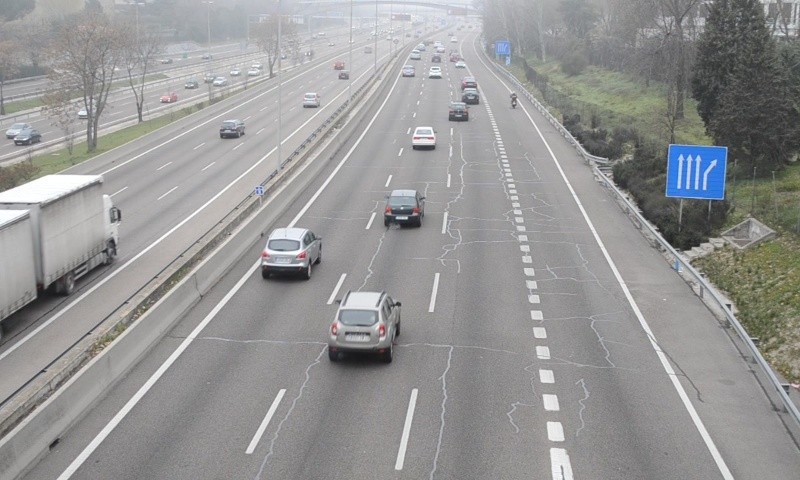car: (329, 291, 400, 352), (260, 228, 322, 268), (383, 189, 424, 227), (412, 125, 435, 147), (447, 102, 468, 122), (462, 88, 481, 104)
motorcycle: (510, 91, 518, 109)
